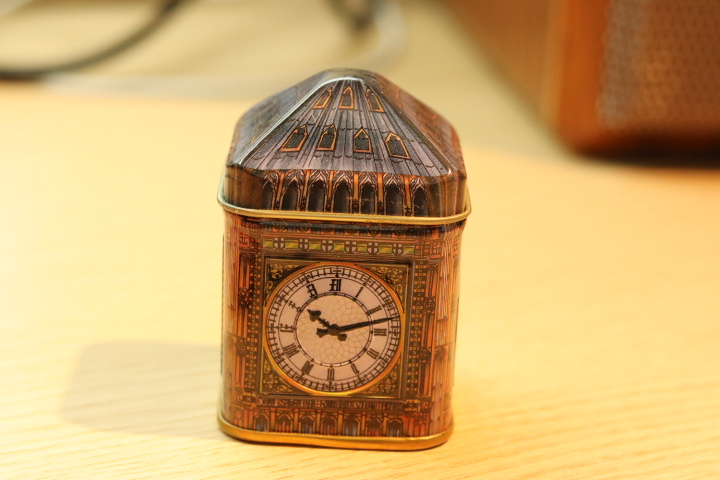Big Ben: (204, 53, 489, 468)
